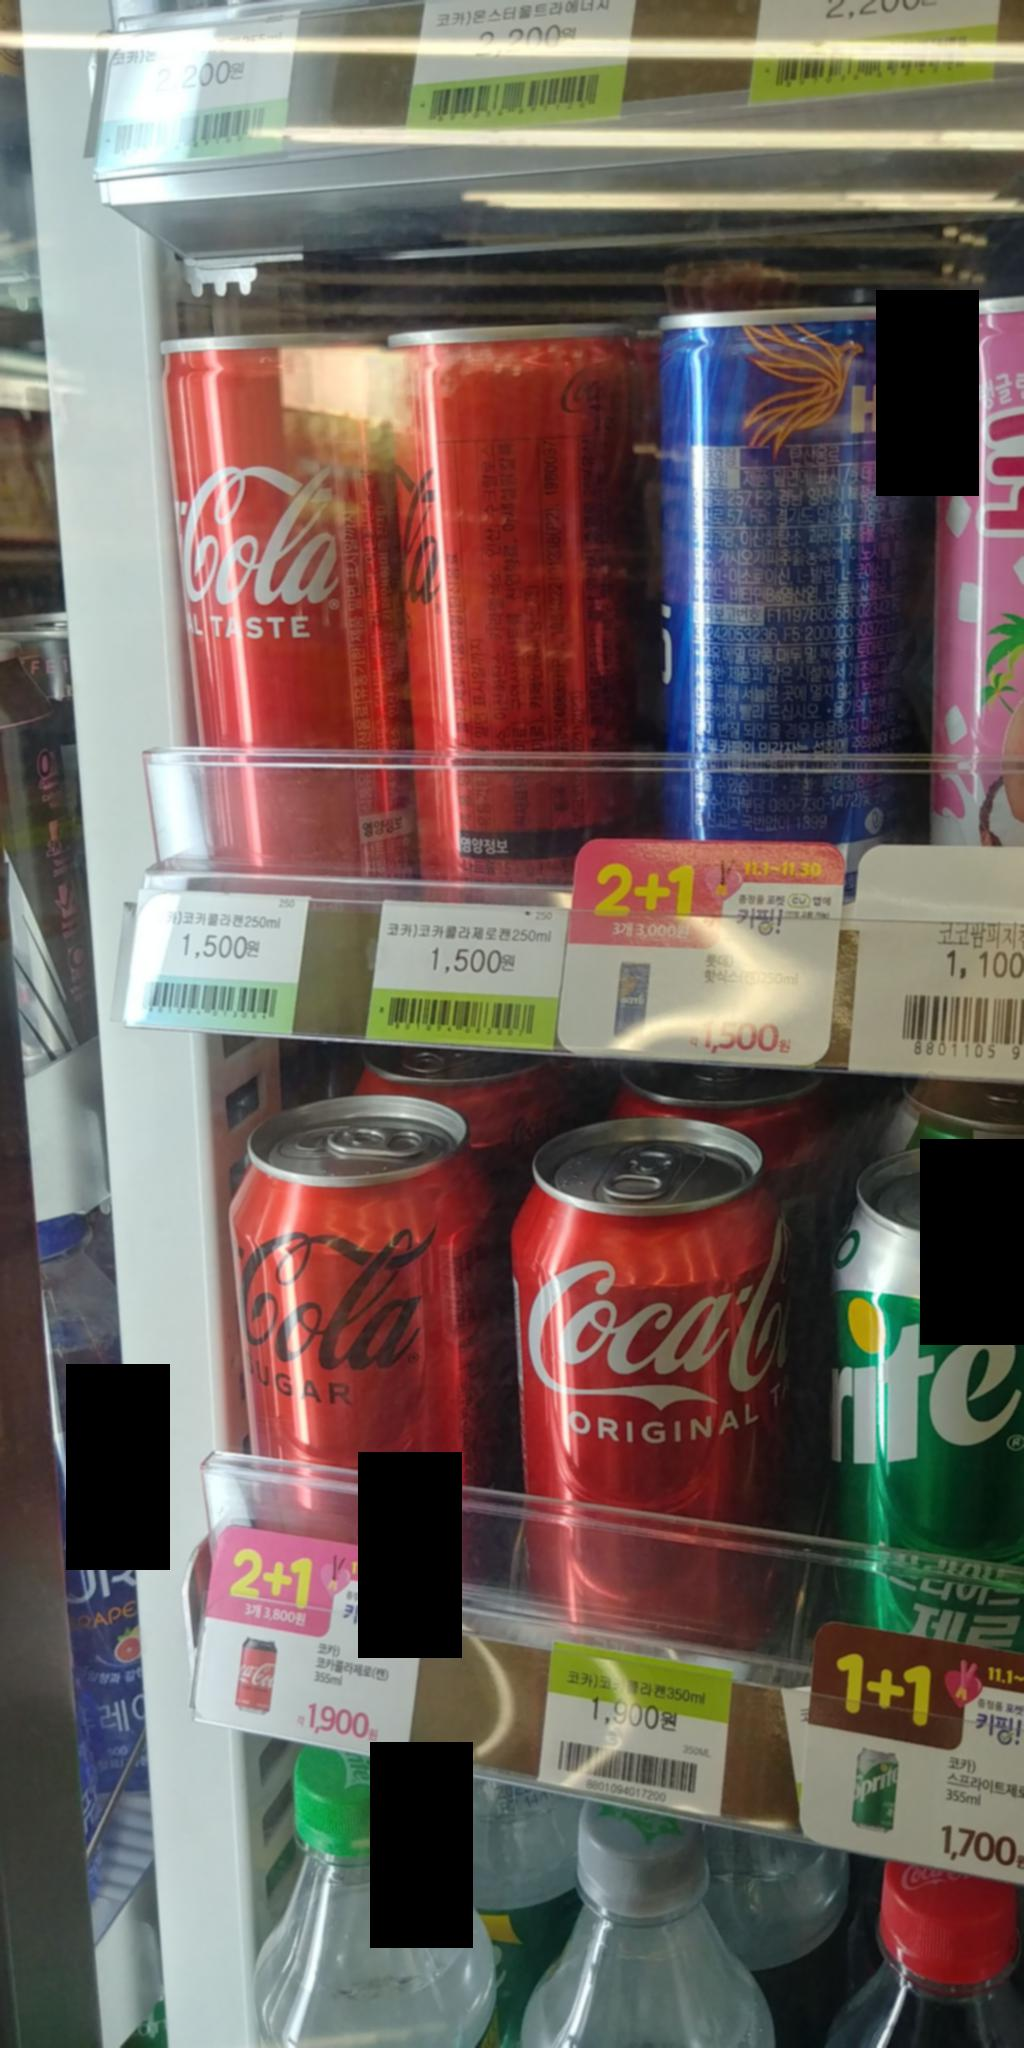cocacola: (509, 1092, 771, 1621)
